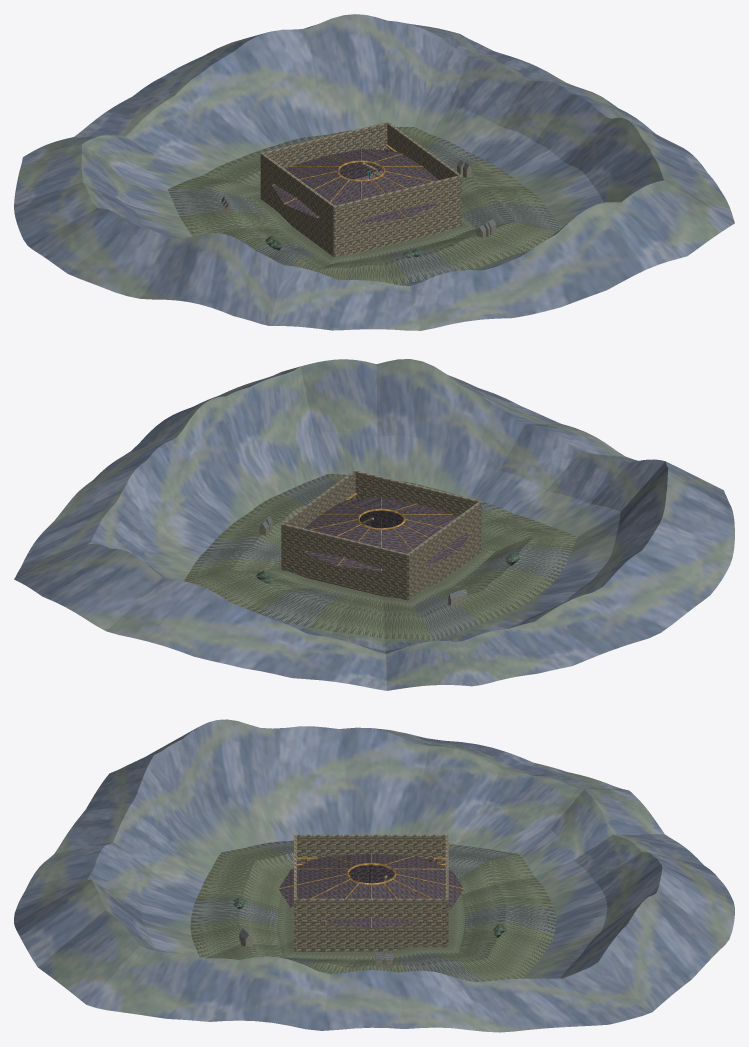
Rendered from EchoRotunda.fbx.
3 views of the same model, one above another, from view 1: azimuth 30°, elevation 25°; view 2: azimuth 150°, elevation 25°; view 3: azimuth 270°, elevation 25° (orthographic). The views are drawn at different scales.
Visible parts, largest first — view 1: Surroundings, C_Solids, Rim; view 2: Surroundings, C_Solids, Rim; view 3: Surroundings, C_Solids, Rim.
Boxes of the visible parts, box(x1,y1,x2,y2) form: Surroundings: box(14, 14, 734, 330); C_Solids: box(260, 122, 461, 256); Rim: box(272, 144, 438, 223); Surroundings: box(14, 359, 734, 690); C_Solids: box(281, 470, 481, 600); Rim: box(304, 493, 470, 571); Surroundings: box(14, 719, 734, 1032); C_Solids: box(294, 834, 448, 951); Rim: box(278, 853, 464, 928).
Size of the model in its own units: 19069 by 2953 by 19430.
